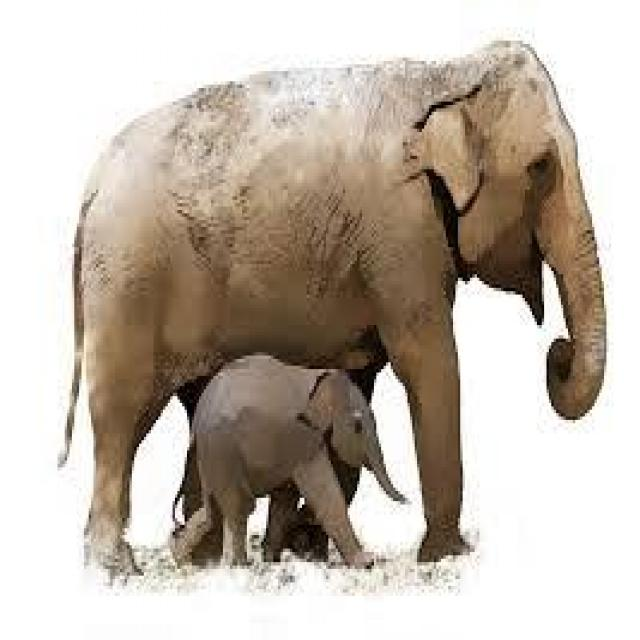Elephant: (67, 41, 604, 572), (189, 349, 386, 569)
